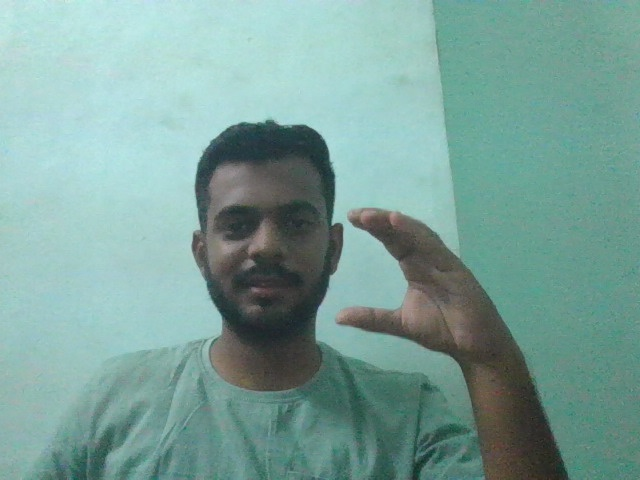no: (332, 199, 502, 363)
